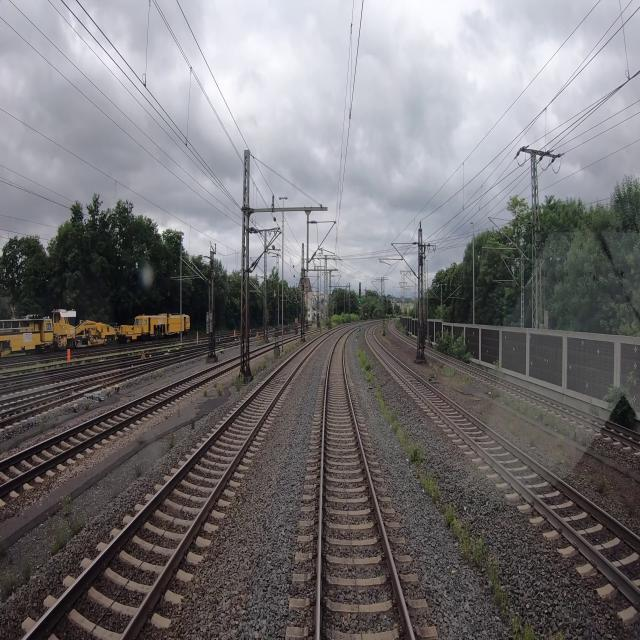Plant: (389, 320, 639, 451), (374, 387, 441, 504), (443, 503, 485, 567), (486, 554, 508, 617), (356, 345, 375, 385), (512, 617, 535, 639), (50, 527, 67, 556), (1, 571, 17, 601), (66, 513, 82, 536), (62, 492, 74, 517), (20, 559, 32, 582), (233, 372, 243, 391), (550, 629, 566, 639), (134, 461, 142, 478), (167, 433, 175, 450), (217, 383, 224, 395), (191, 418, 195, 429), (203, 389, 207, 396)
